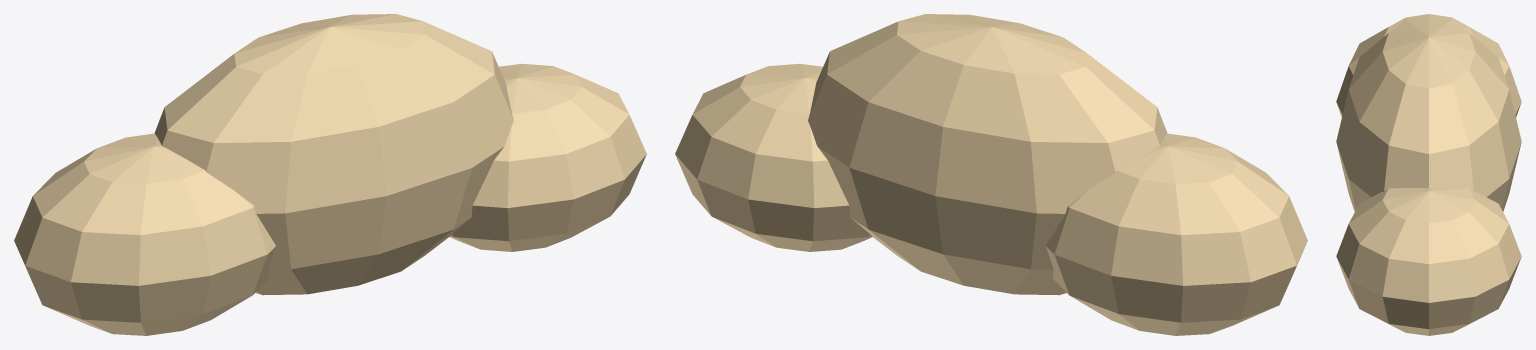
Rendered from cloud_puffy.glb.
3 renders of one model, left to right at view 1: azimuth 30°, elevation 25°; view 2: azimuth 150°, elevation 25°; view 3: azimuth 270°, elevation 25°, orthographic. The views are drawn at different scales.
Parts seen in each view (by area): view 1: cloud_lobe1, cloud_lobe0, cloud_lobe2; view 2: cloud_lobe1, cloud_lobe0, cloud_lobe2; view 3: cloud_lobe1, cloud_lobe2, cloud_lobe0.
Part boxes in pixels (box(x1,y1,x2,y2)): cloud_lobe1: box(154, 14, 513, 295); cloud_lobe0: box(14, 133, 275, 335); cloud_lobe2: box(449, 63, 646, 251); cloud_lobe1: box(808, 14, 1167, 295); cloud_lobe0: box(1046, 133, 1307, 335); cloud_lobe2: box(675, 63, 872, 251); cloud_lobe1: box(1336, 14, 1521, 211); cloud_lobe2: box(1336, 188, 1521, 335); cloud_lobe0: box(1336, 14, 1521, 117).
Size of the model in its own units: 2.6 by 1.04 by 0.84.
